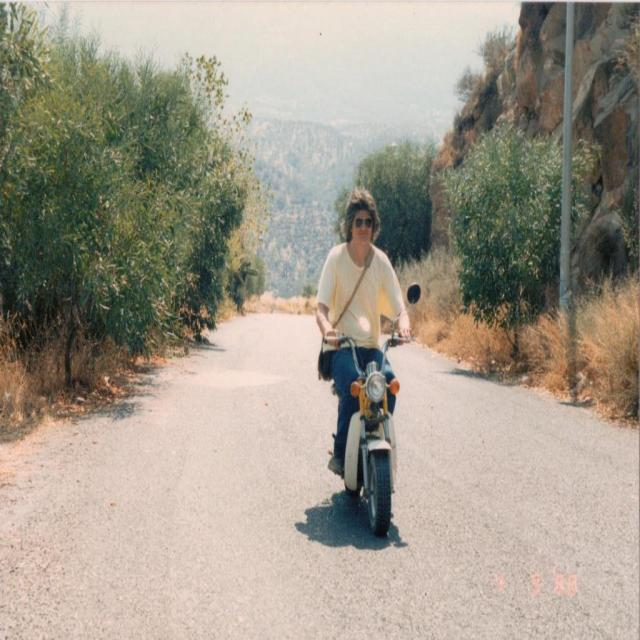bus: (322, 282, 421, 534)
